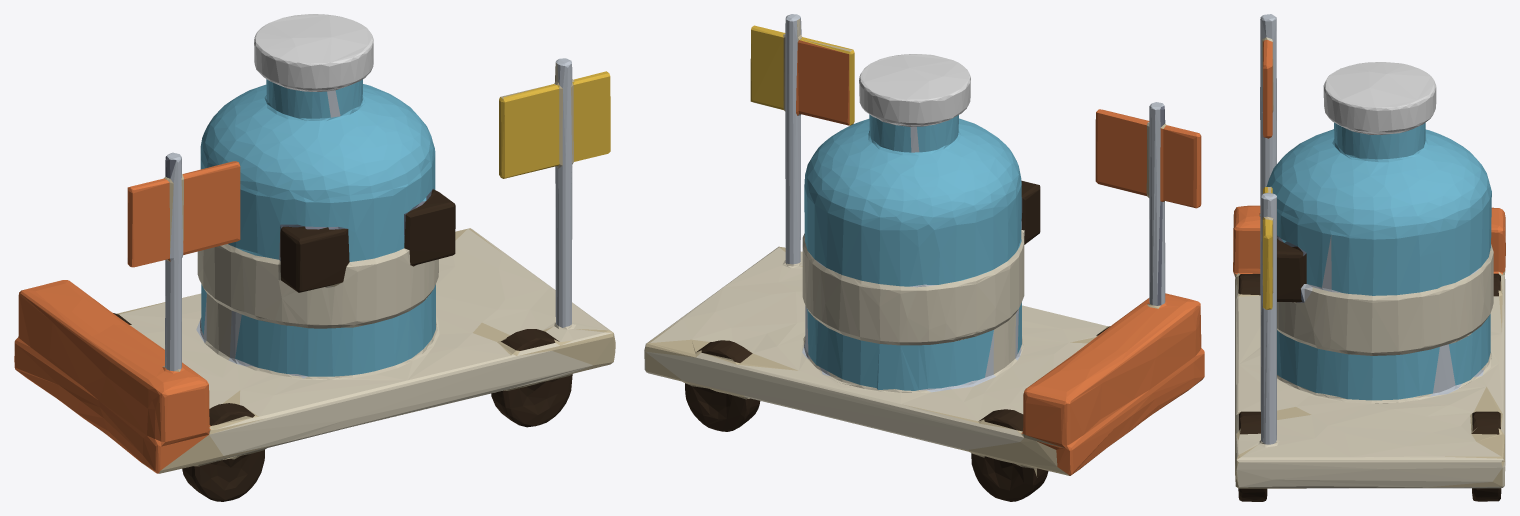
File: float-hunyuan-A.glb
3 renders of one model, left to right at view 1: azimuth 30°, elevation 25°; view 2: azimuth 150°, elevation 25°; view 3: azimuth 270°, elevation 25°, orthographic. The views are drawn at different scales.
Parts seen in each view (by area): view 1: float; view 2: float; view 3: float.
Part boxes in pixels (x1,y1,x2,y2): float: (14,14,615,501); float: (644,14,1204,501); float: (1233,14,1505,501).
Size of the model in its own units: 2.86 by 2.12 by 1.5.
